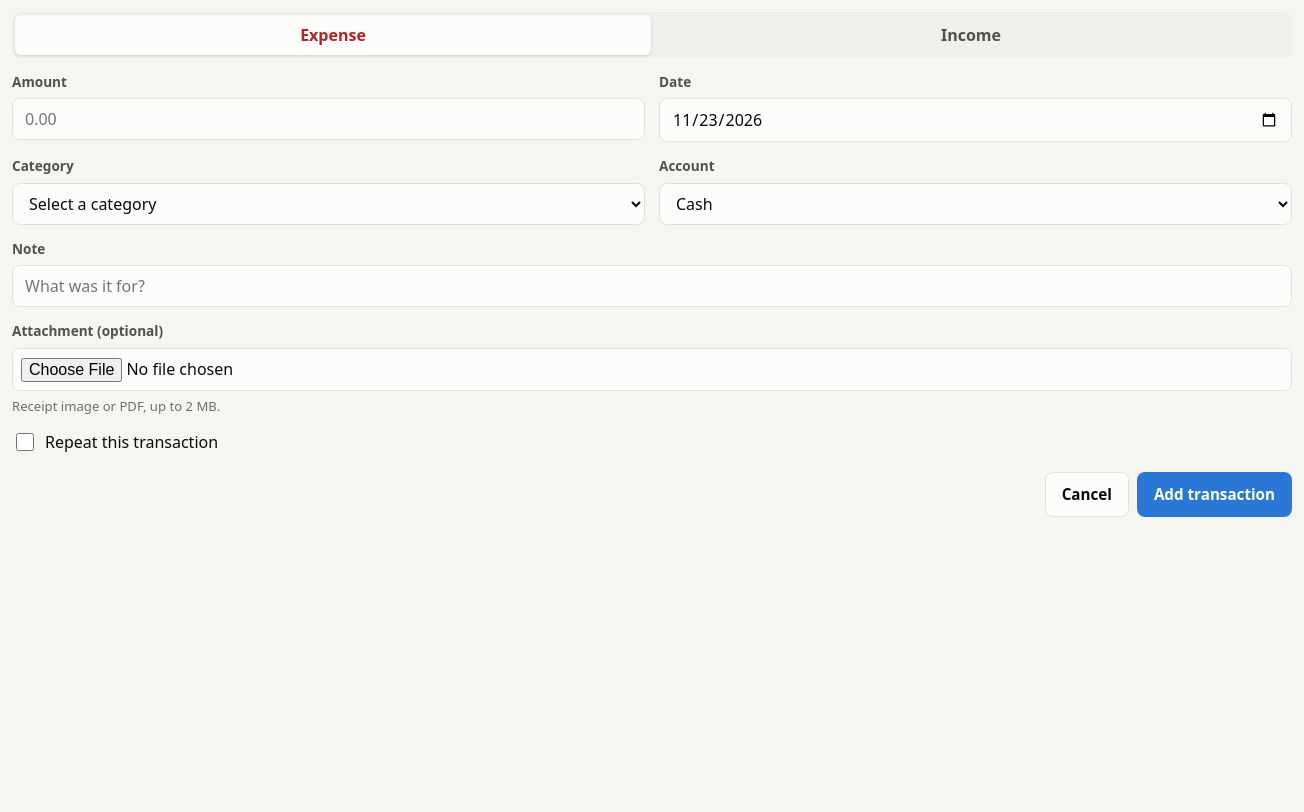
it: TransactionForm (add) › validates required fields before submitting
What coordinates should you click on to do the following:
click the button "Add transaction"
I would click on:
 (1214, 495)
Its box is x1=1137 y1=472 x2=1292 y2=517.
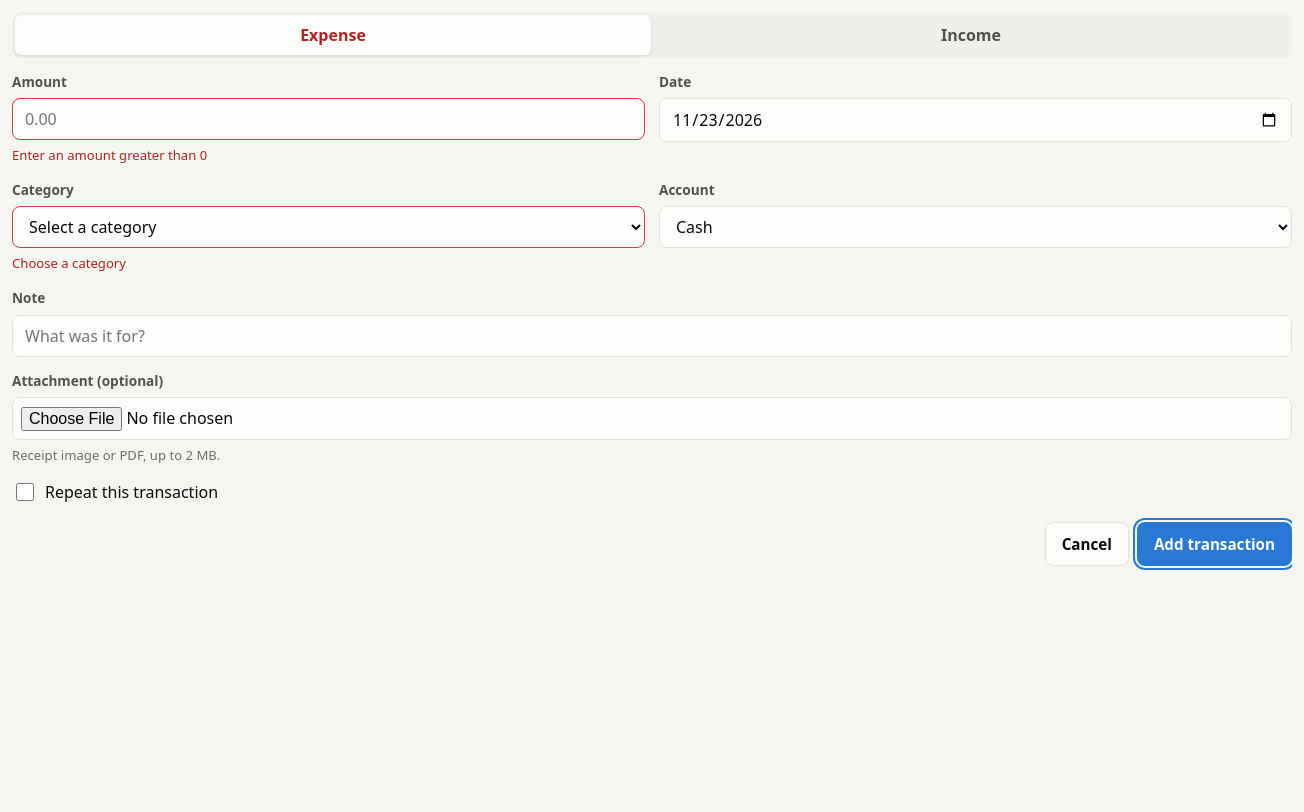
Expected: the text "Enter an amount greater than 0" is shown, x1=12 y1=146 x2=207 y2=164
Expected: the text "Choose a category" is shown, x1=12 y1=254 x2=126 y2=272
